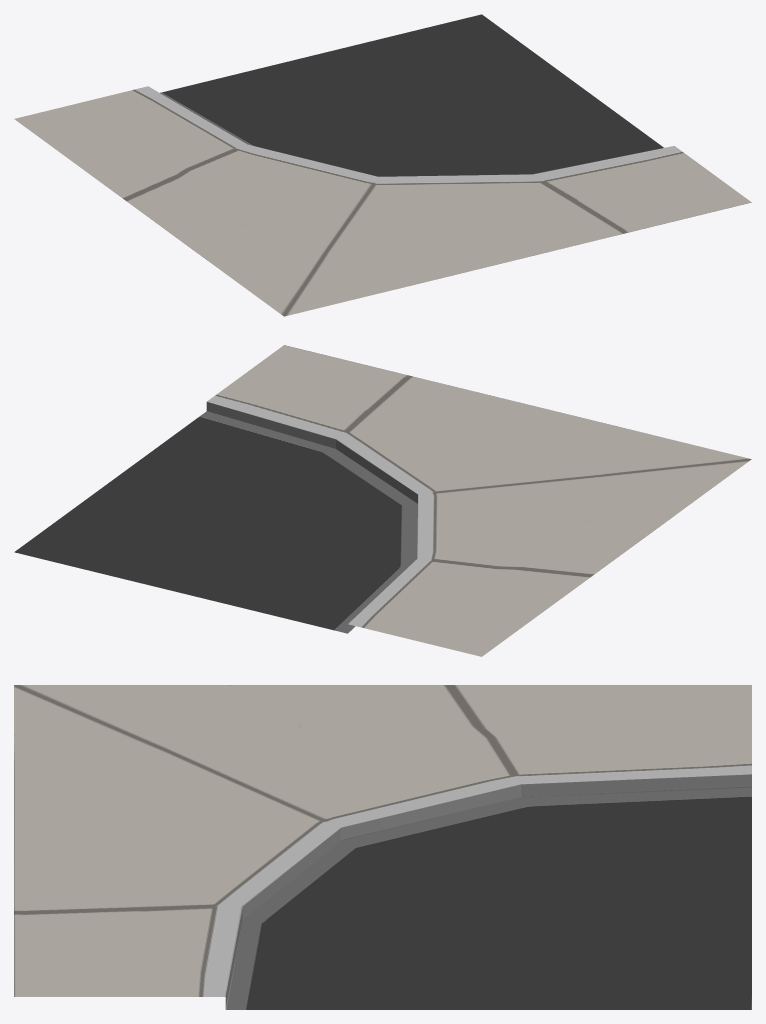
Rendered from road_curve_round_outer.fbx.
3 views of the same model, one above another, from view 1: azimuth 30°, elevation 25°; view 2: azimuth 150°, elevation 25°; view 3: azimuth 270°, elevation 25° (orthographic). The views are drawn at different scales.
Visible parts, largest first — view 1: road_curve_outer; view 2: road_curve_outer; view 3: road_curve_outer.
Part boxes in pixels (box(x1,y1,x2,y2)): road_curve_outer: box(14, 14, 751, 316); road_curve_outer: box(14, 345, 751, 656); road_curve_outer: box(14, 685, 751, 1009).
Bounding box in the file's own units: 10 × 0.1946 × 10.
